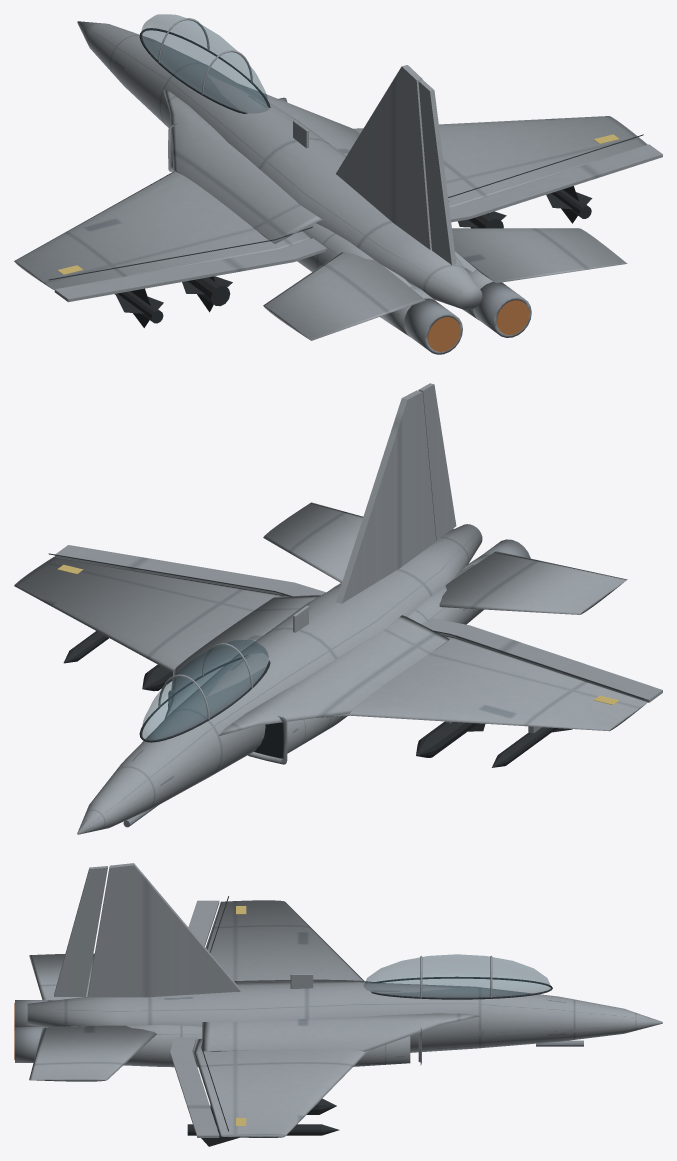
The model's file is wings_yak130.glb.
3 renders of one model, top to bottom at view 1: azimuth 30°, elevation 25°; view 2: azimuth 150°, elevation 25°; view 3: azimuth 270°, elevation 25°, orthographic. The views are drawn at different scales.
Parts seen in each view (by area): view 1: airframe_static, tailplane_L, canopy, tailplane_R, elevon_L, elevon_R, rudder_1, missile_L2, missile_L1, missile_R2, exhaust_core_L, exhaust_core_R (+1 smaller); view 2: airframe_static, tailplane_L, canopy, tailplane_R, elevon_L, elevon_R, rudder_1, missile_L1, missile_L2; view 3: airframe_static, canopy, tailplane_R, rudder_1, elevon_R, tailplane_L, elevon_L, missile_R2.
Part boxes in pixels (x1,y1,x2,y2): airframe_static: [14, 21, 647, 354]; tailplane_L: [263, 252, 425, 340]; canopy: [139, 14, 270, 113]; tailplane_R: [452, 228, 627, 283]; elevon_L: [54, 238, 326, 302]; elevon_R: [449, 144, 662, 222]; rudder_1: [418, 80, 456, 264]; missile_L2: [114, 288, 163, 327]; missile_L1: [182, 276, 232, 312]; missile_R2: [546, 186, 592, 223]; exhaust_core_L: [427, 317, 460, 351]; exhaust_core_R: [496, 300, 529, 335]; airframe_static: [14, 390, 647, 834]; tailplane_L: [439, 551, 627, 614]; canopy: [139, 640, 270, 742]; tailplane_R: [263, 502, 362, 582]; elevon_L: [423, 618, 662, 702]; elevon_R: [54, 545, 325, 596]; rudder_1: [418, 383, 456, 540]; missile_L1: [416, 722, 485, 757]; missile_L2: [492, 727, 572, 767]; airframe_static: [15, 863, 662, 1137]; canopy: [364, 954, 552, 999]; tailplane_R: [29, 1025, 156, 1081]; rudder_1: [54, 866, 107, 996]; elevon_R: [170, 1037, 219, 1137]; tailplane_L: [29, 953, 94, 1000]; elevon_L: [188, 900, 219, 946]; missile_R2: [187, 1114, 339, 1146].
Bounding box in the file's own units: 9.86 × 4.06 × 11.5.
7 materials, 1 textured.
